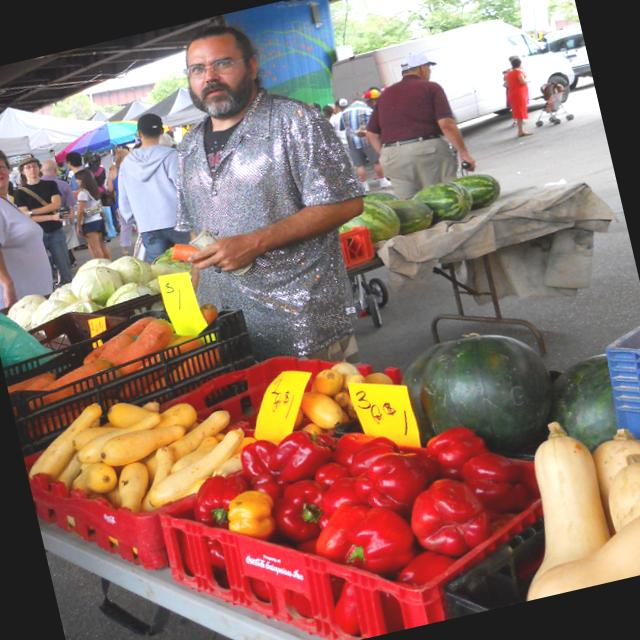Vehicle: (327, 5, 582, 152), (542, 23, 594, 90)
